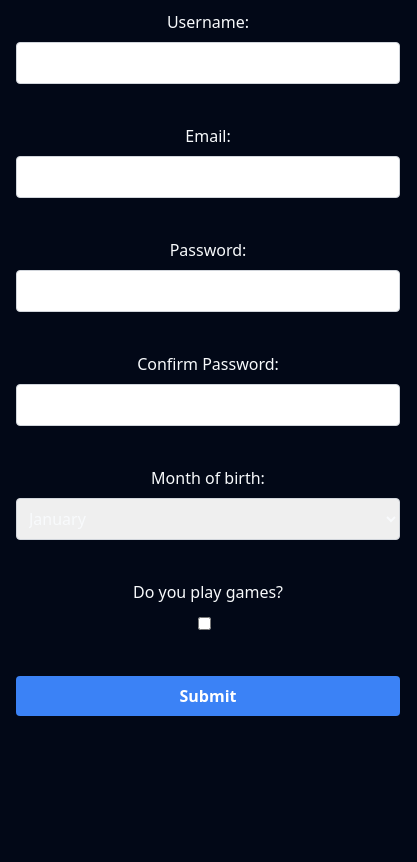
Test case: NakedForm Component › validates form and displays errors when playing games without entering a favorite game
Check the playGames checkbox
Click the checkbox labelled "Do you play games?".
click(204, 624)  # box [198,617,210,630]
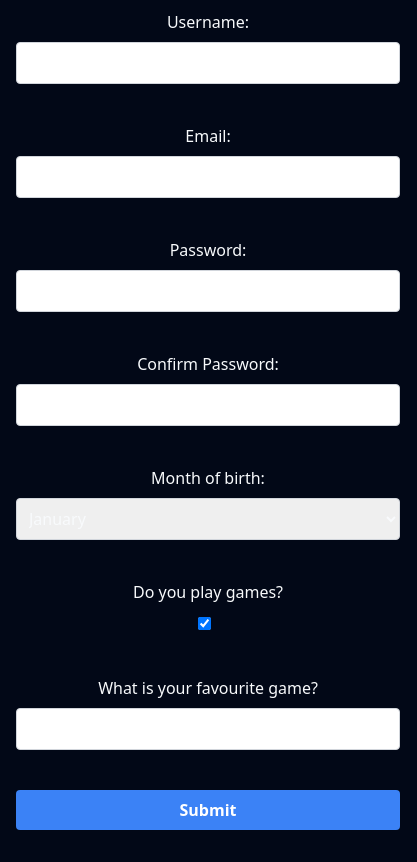
Trigger form submission without entering a favorite game
Click the button "Submit".
click(208, 810)  # box [16,790,400,830]
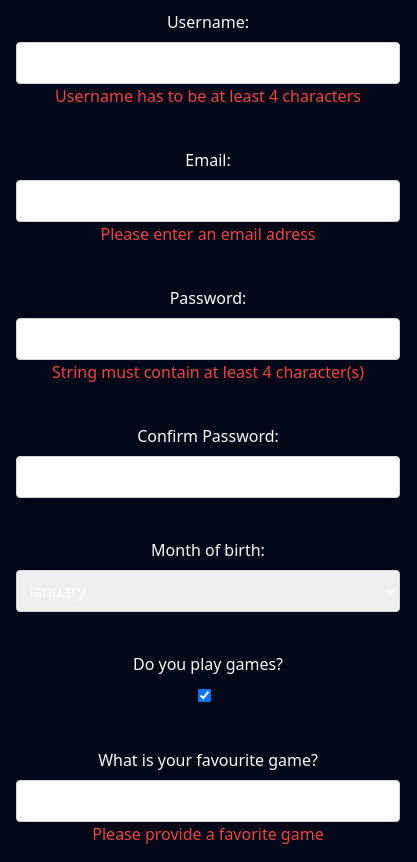
Now the text "Please provide a favorite game" is shown, box [92,823,324,845]
